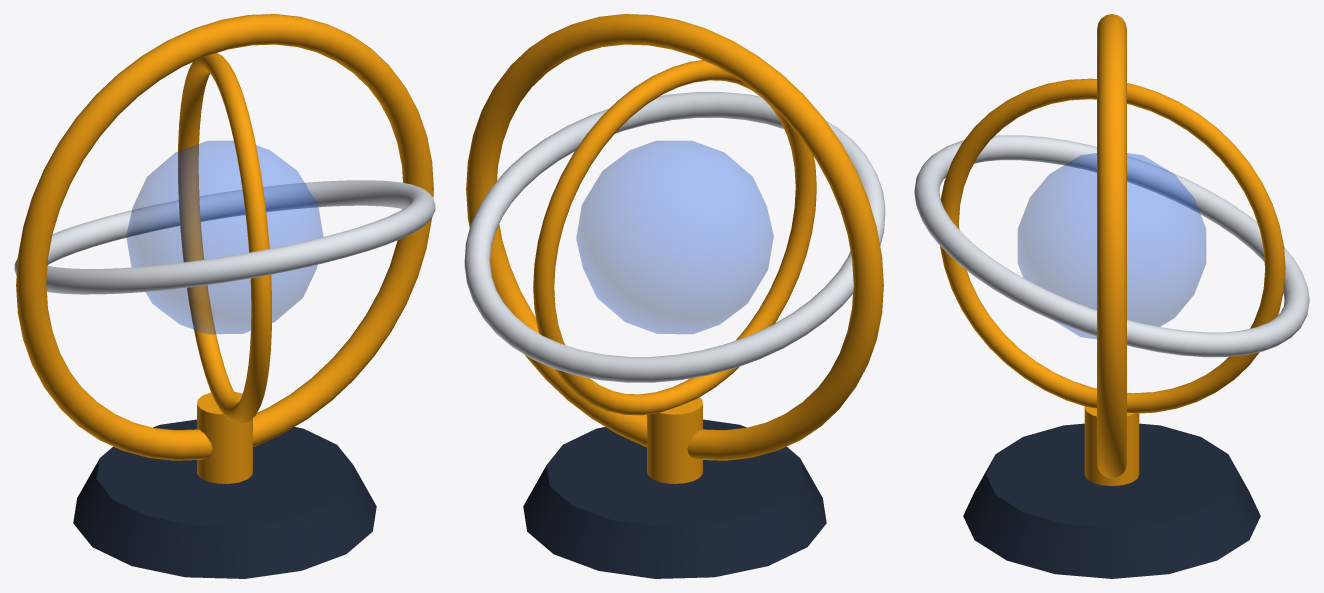
File: infinity.glb
The picture shows the model from 3 angles, left to right: view 1: azimuth 30°, elevation 25°; view 2: azimuth 150°, elevation 25°; view 3: azimuth 270°, elevation 25°; orthographic projection. The views are drawn at different scales.
Visible parts, largest first — view 1: InfinityModel; view 2: InfinityModel; view 3: InfinityModel.
Part boxes in pixels (box(x1,y1,x2,y2)): InfinityModel: box(14, 14, 435, 578); InfinityModel: box(464, 14, 885, 578); InfinityModel: box(914, 14, 1309, 578).
Size of the model in its own units: 2.03 by 2.31 by 1.73.
